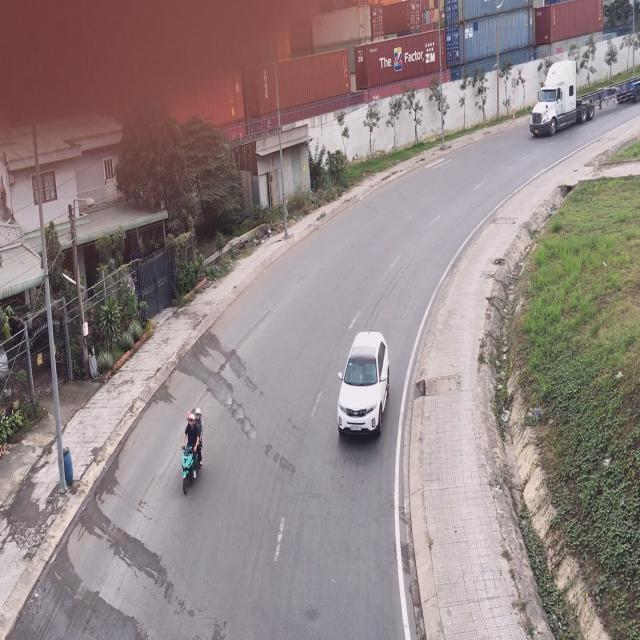car: (337, 329, 390, 440)
motorbike: (181, 406, 206, 493)
truck: (529, 58, 638, 136)
